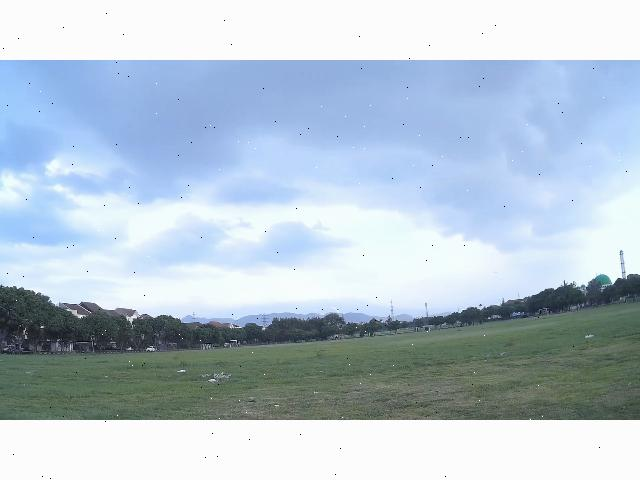Anti-Drone: (328, 302, 344, 317)
